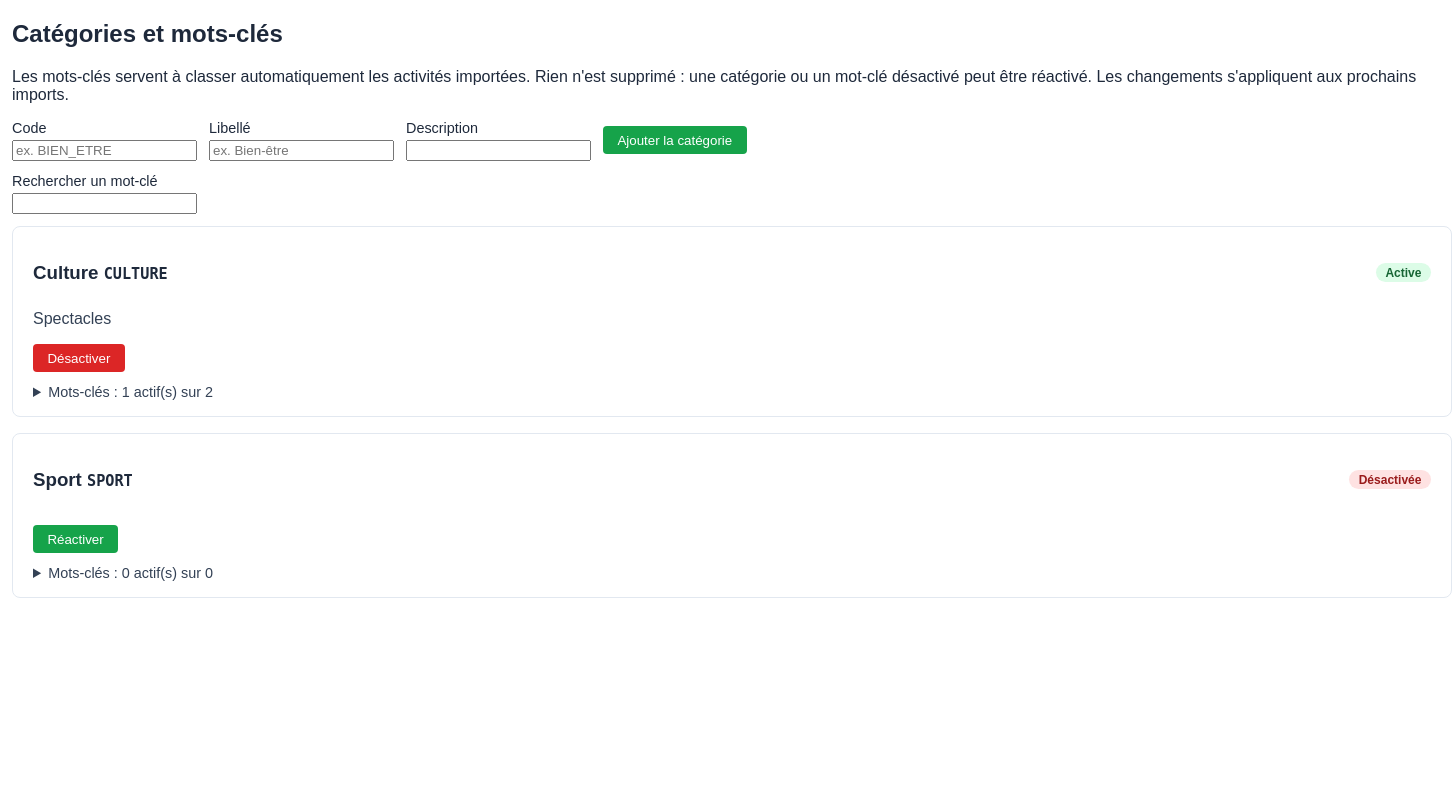
Test: AdminCategoriesSection › ajoute une catégorie
Expected: the heading "Mots-clés : 1 actif(s) sur 2" is shown, left=48, top=384, right=213, bottom=400
Type "bien_etre" into the field labelled "Code" at x=104, y=150, box left=12, top=140, right=197, bottom=161
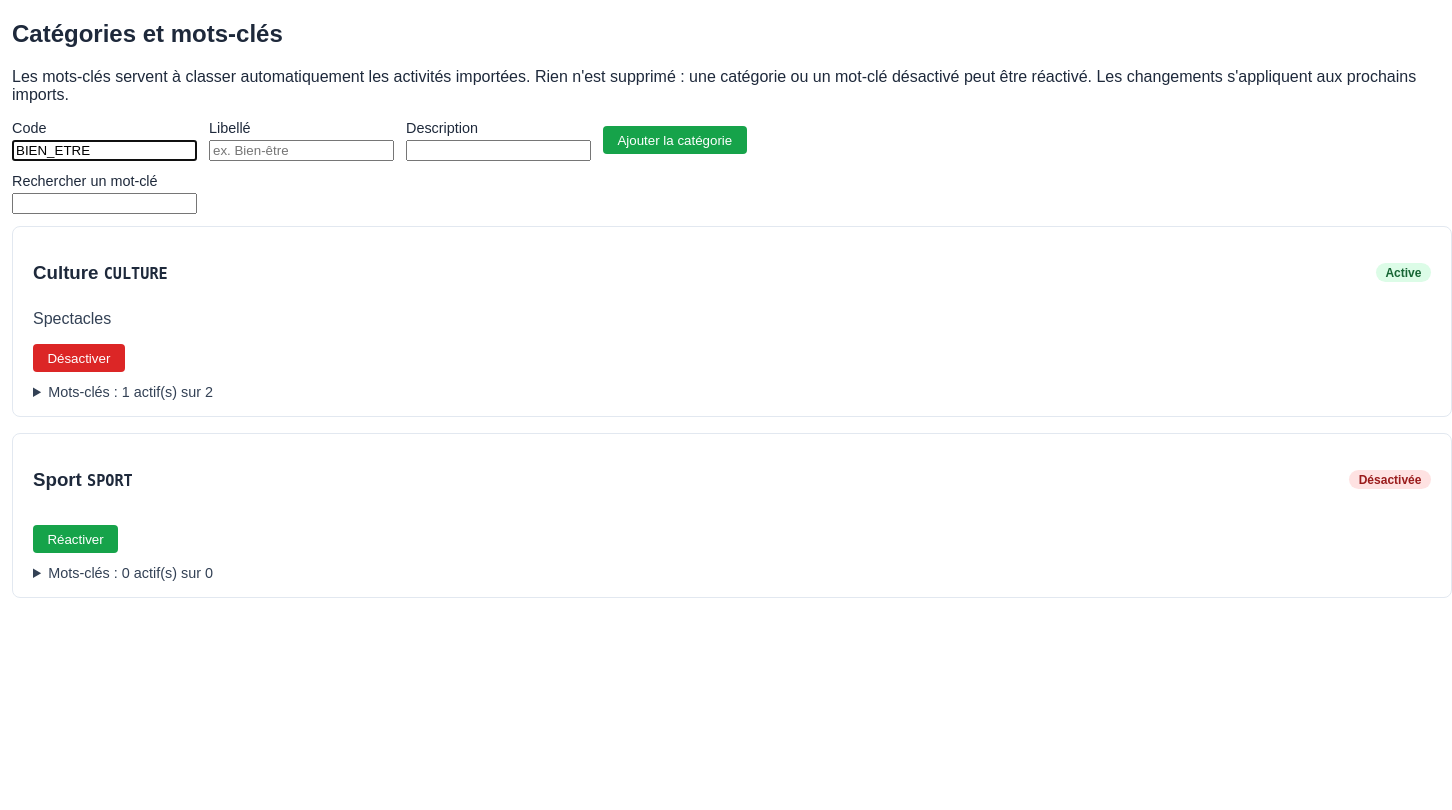
Type "Bien-être" into the field labelled "Libellé" at x=302, y=150, box left=209, top=140, right=394, bottom=161
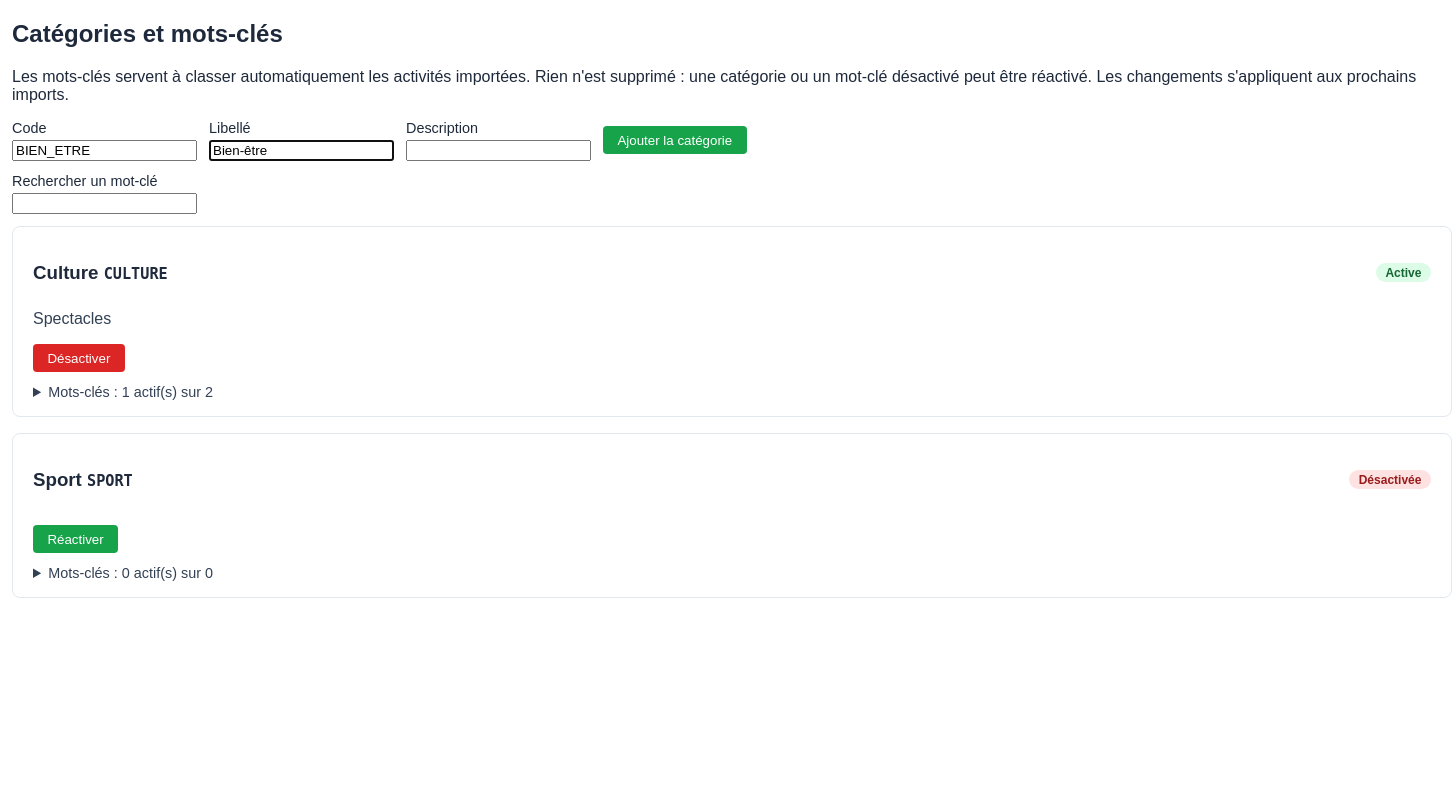
Click the button "Ajouter la catégorie" at x=675, y=140, box left=603, top=126, right=747, bottom=154
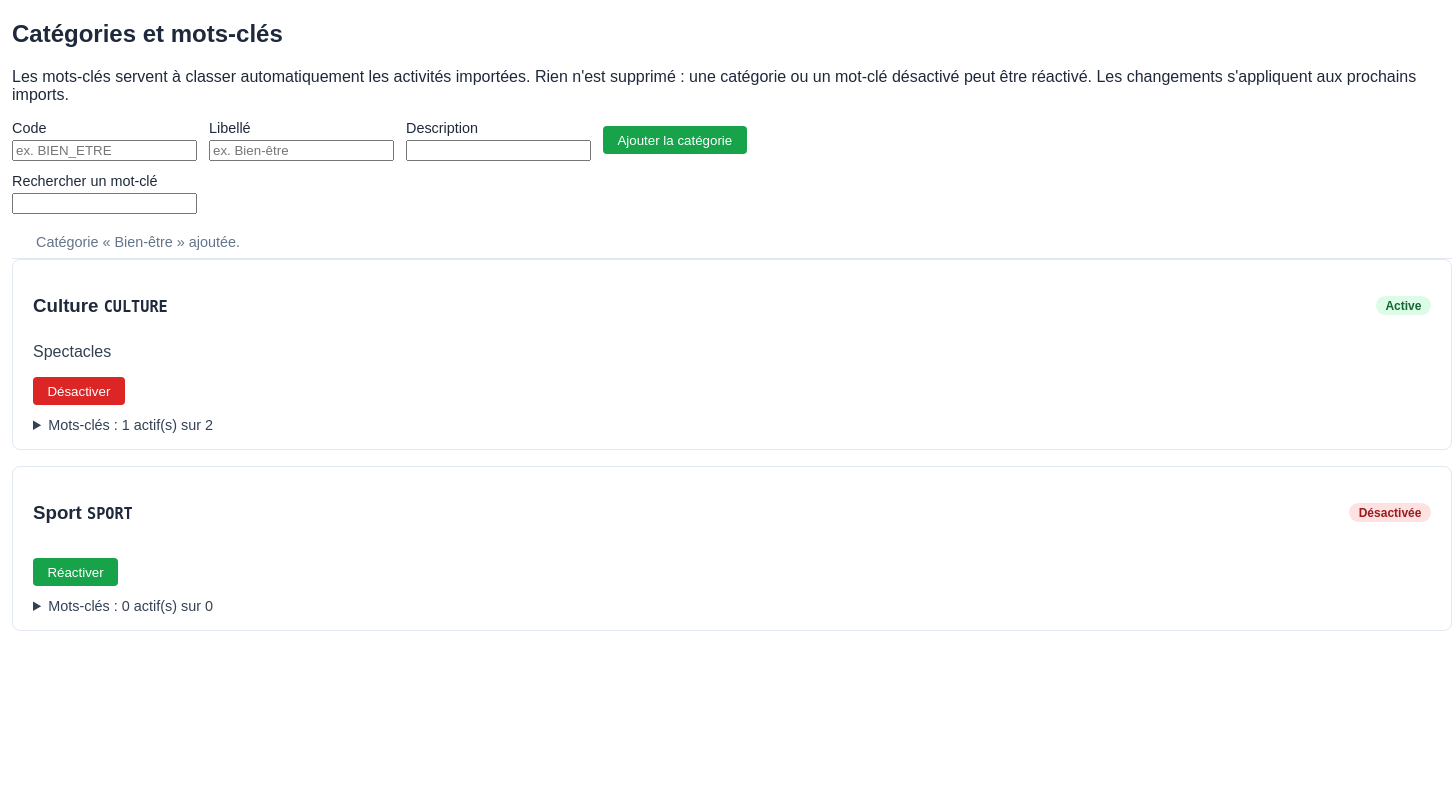
Result: the message reads "Catégorie « Bien-être » ajoutée." at left=36, top=234, right=240, bottom=250
